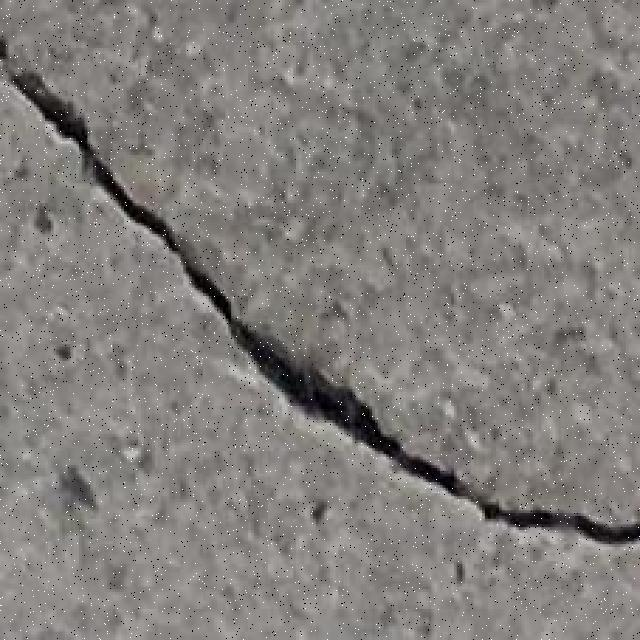Crack: (1, 36, 638, 545)
